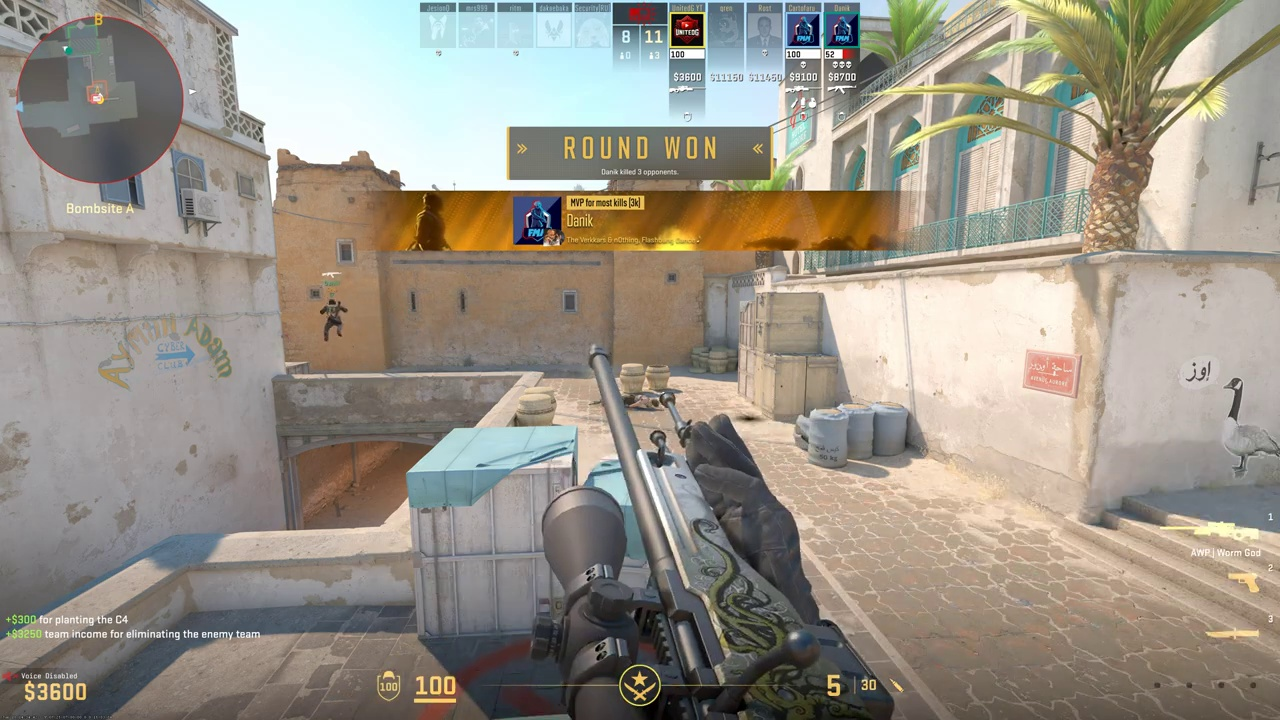Terrorist: (323, 298, 343, 341)
